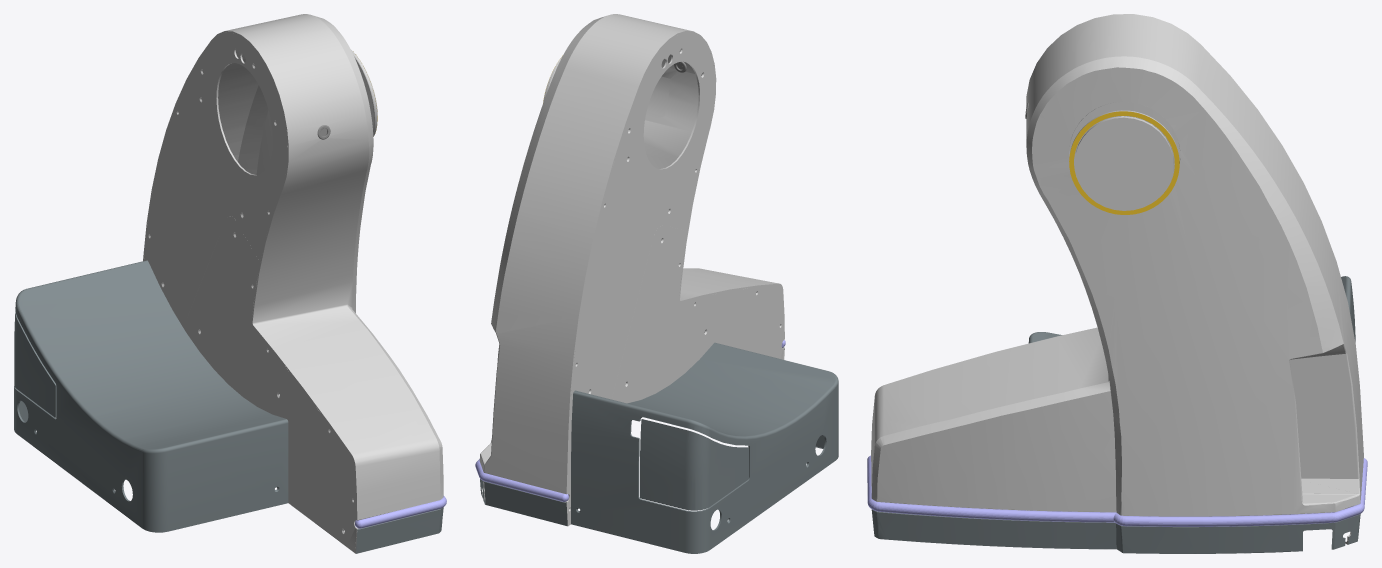
Rendered from LeftLeg_LXC_Light_NoWheels.fbx.
3 renders of one model, left to right at view 1: azimuth 30°, elevation 25°; view 2: azimuth 150°, elevation 25°; view 3: azimuth 270°, elevation 25°, orthographic. The views are drawn at different scales.
Parts seen in each view (by area): view 1: LeftLegLXC; view 2: LeftLegLXC; view 3: LeftLegLXC.
Boxes of the visible parts, left/top/right/bottom form: LeftLegLXC: left=14, top=14, right=446, bottom=553; LeftLegLXC: left=475, top=14, right=838, bottom=553; LeftLegLXC: left=867, top=14, right=1367, bottom=553.
Bounding box in the file's own units: 46.8 × 75.96 × 71.9.
